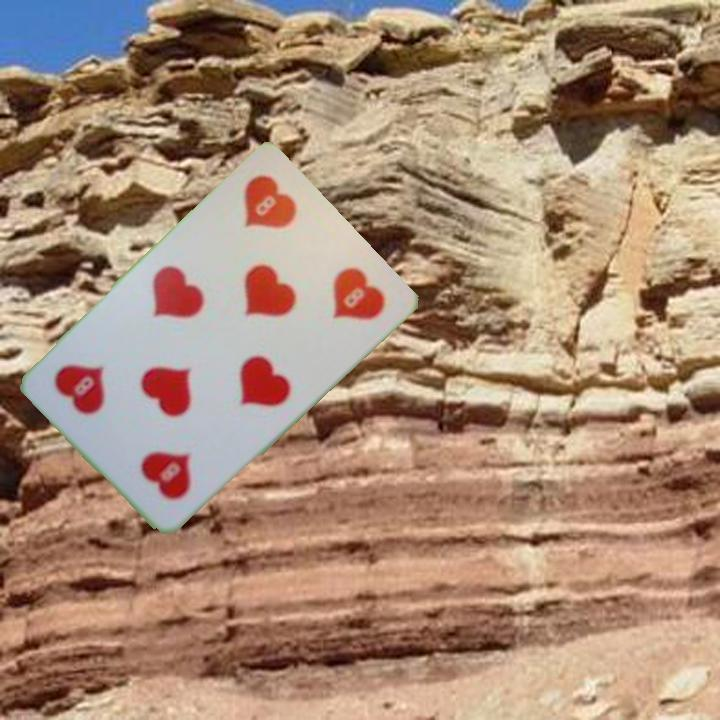h_8.png: (99, 391, 228, 520), (206, 161, 335, 290)
